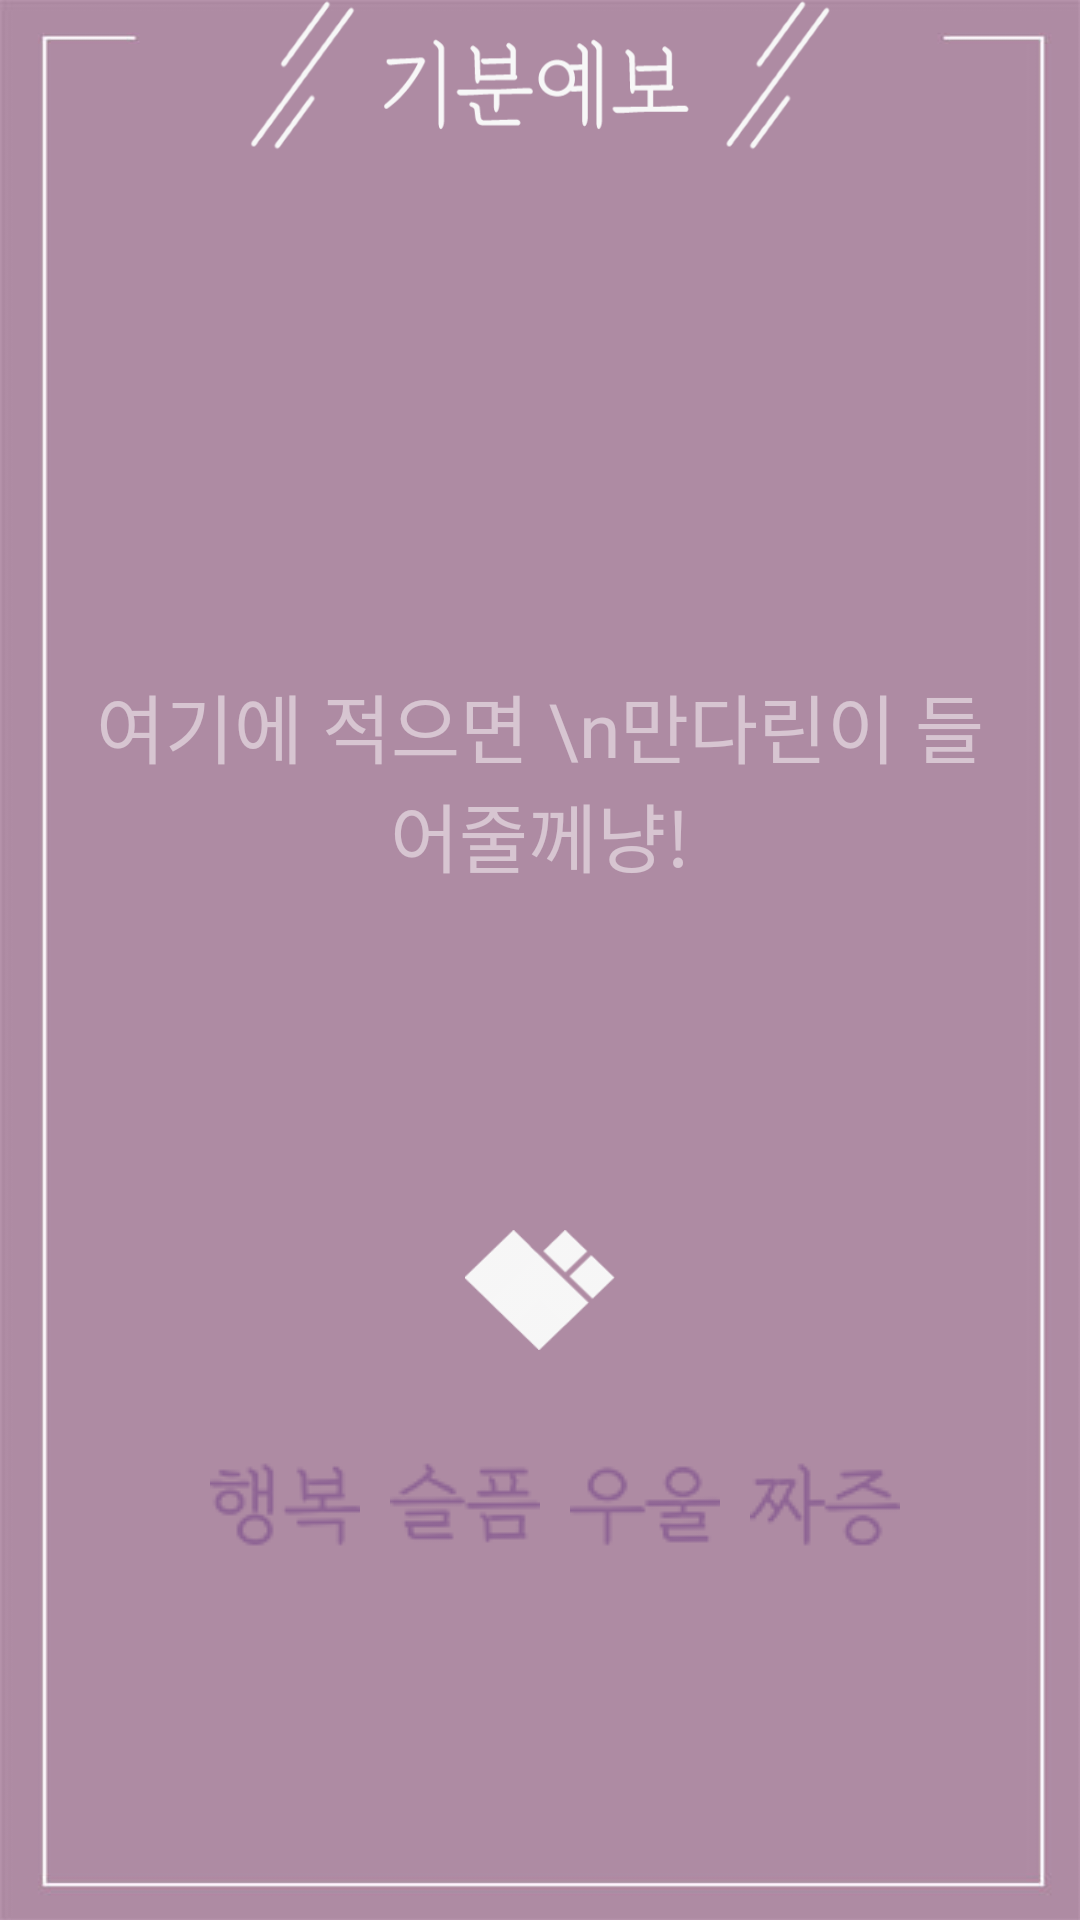

Point at icon controls on the screen. Image size 1080px×1920px, points as (x,y).
heart: (539,1290)
